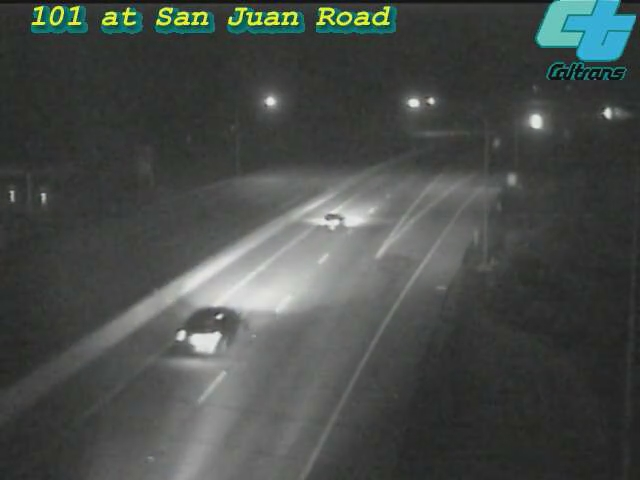vehicle: (158, 279, 268, 389), (291, 182, 371, 262), (507, 97, 557, 147), (584, 89, 634, 139), (595, 89, 640, 139)
